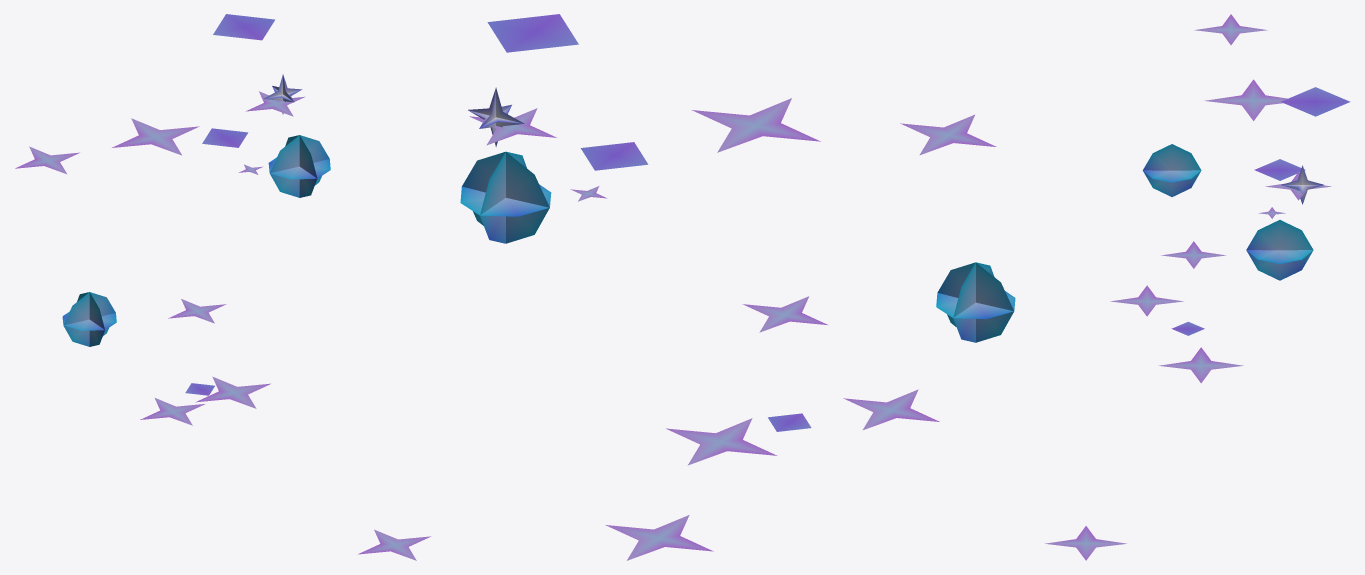
File: space-stars-star-cluster_v7.glb
3 renders of one model, left to right at view 1: azimuth 30°, elevation 25°; view 2: azimuth 150°, elevation 25°; view 3: azimuth 270°, elevation 25°, orthographic. The views are drawn at different scales.
Parts seen in each view (by area): view 1: Star Cluster_v7; view 2: Star Cluster_v7; view 3: Star Cluster_v7.
Part boxes in pixels (bbox=[...]): Star Cluster_v7: bbox=[15, 14, 430, 560]; Star Cluster_v7: bbox=[460, 14, 1015, 560]; Star Cluster_v7: bbox=[1045, 14, 1350, 560].
Size of the model in its own units: 0.4084 by 0.5 by 0.3258.
